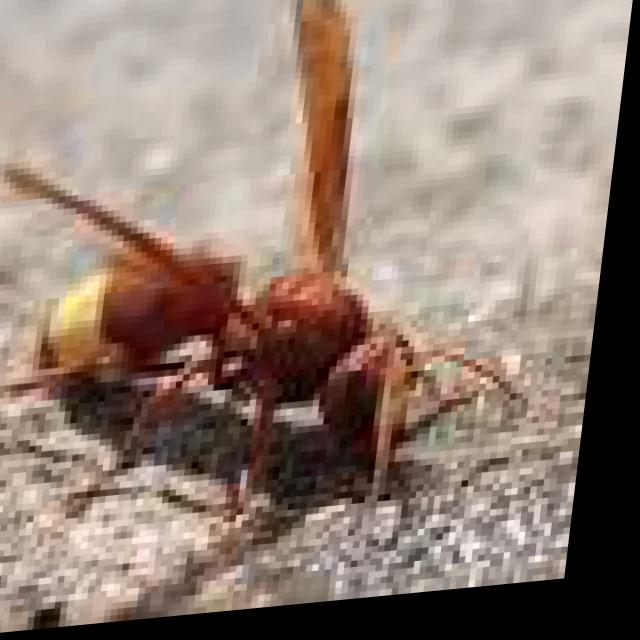Vespa Orientalis: (0, 0, 608, 609)
